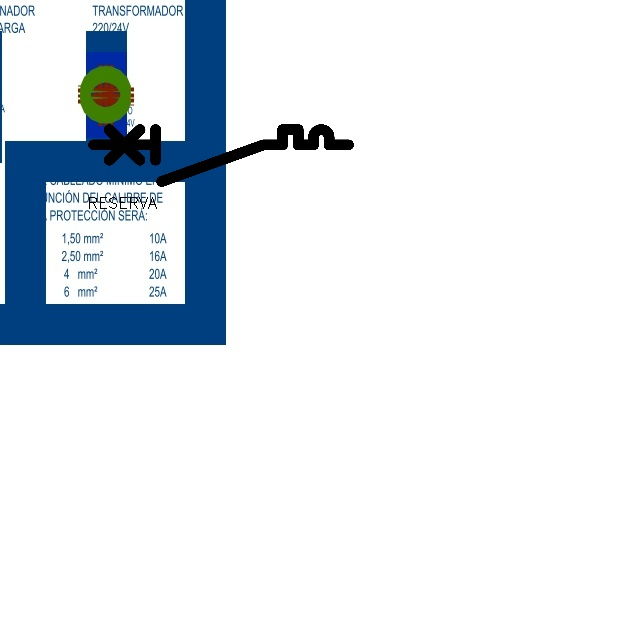interruptor_termomagnetico: (87, 123, 355, 188)
